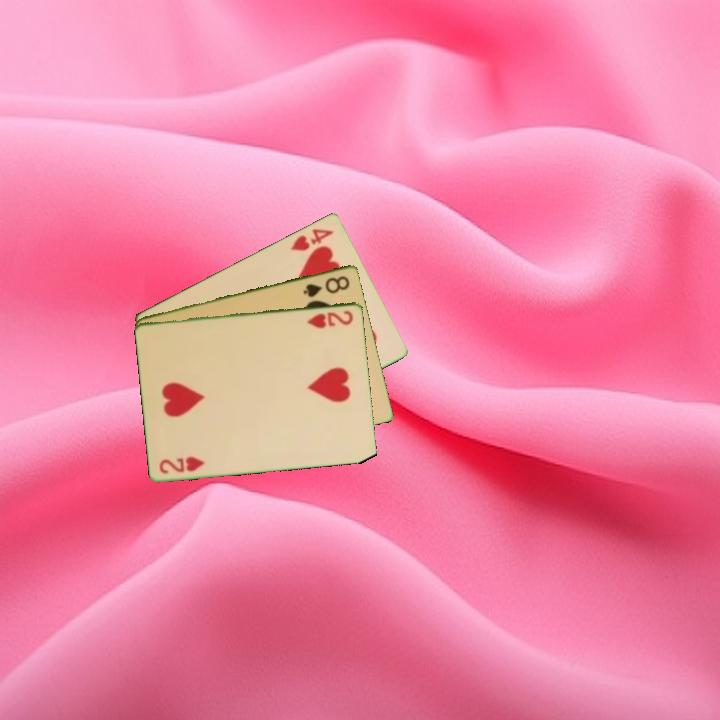2h: (303, 306, 356, 331), (156, 452, 207, 476)
4h: (287, 225, 337, 254)
8s: (300, 272, 353, 300)
